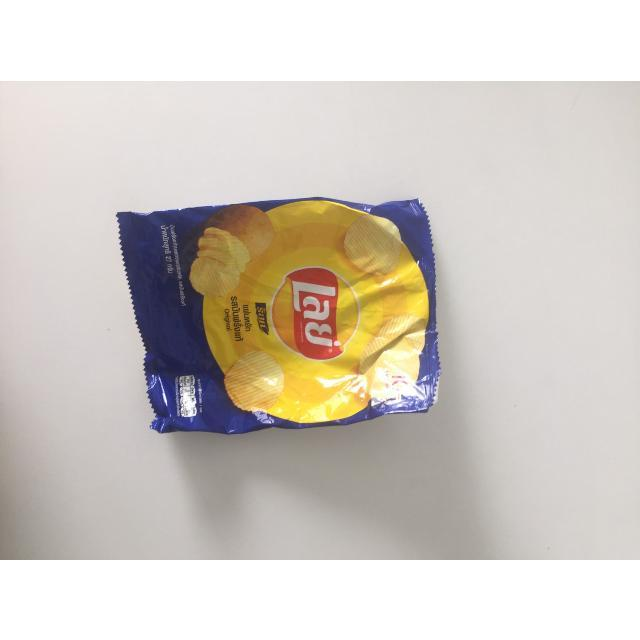Bolsa-de-plastico: (113, 198, 457, 428)
